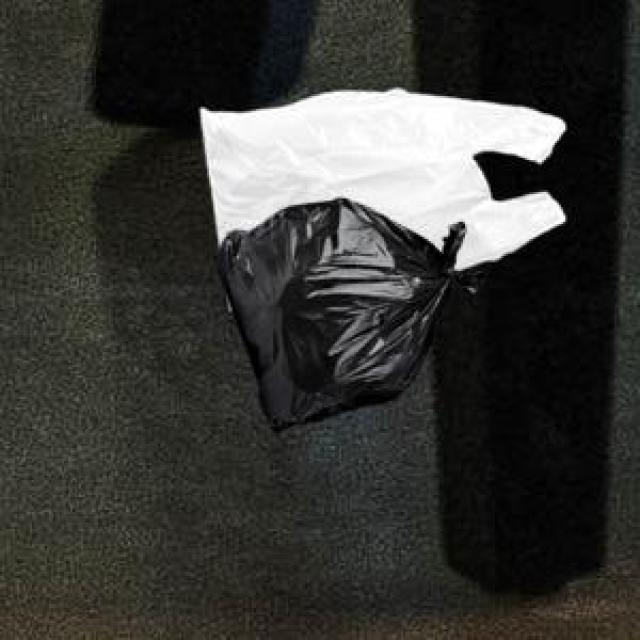miscellaneous trash: (211, 194, 484, 429)
